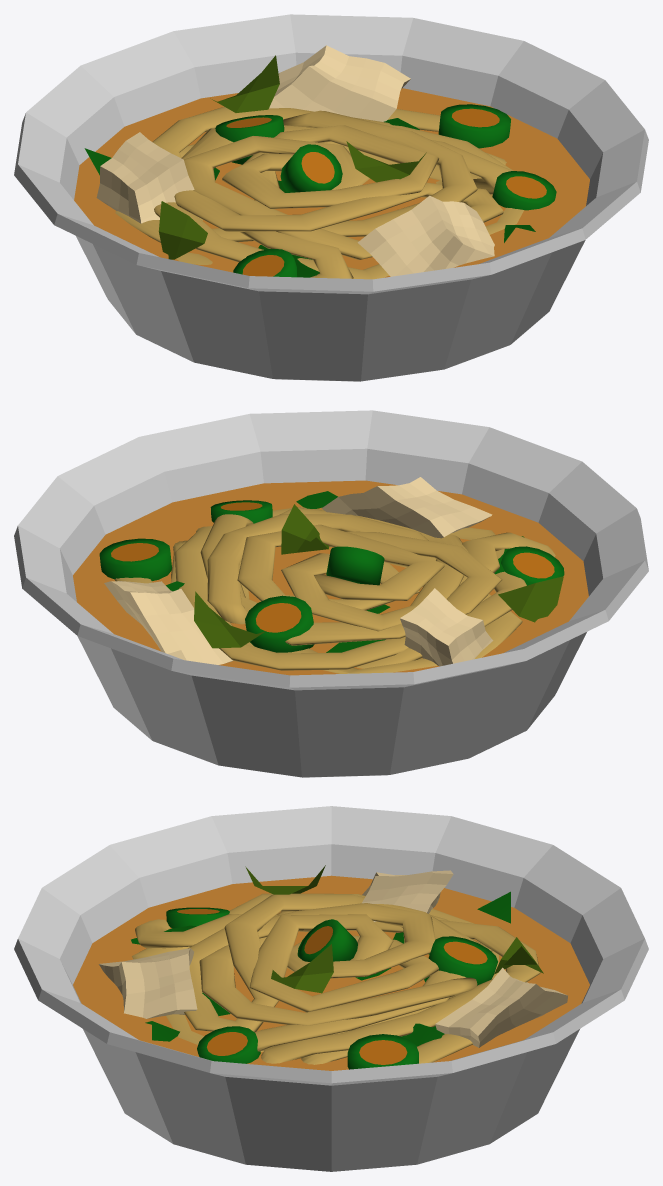
File: ChickenNoodleSoup.fbx
3 renders of one model, top to bottom at view 1: azimuth 30°, elevation 25°; view 2: azimuth 150°, elevation 25°; view 3: azimuth 270°, elevation 25°, orthographic.
Parts seen in each view (by area): view 1: Bowl, Noodles, Chicken, Broth, Carrot - Chopped, Herbs; view 2: Bowl, Noodles, Broth, Chicken, Carrot - Chopped, Herbs; view 3: Bowl, Noodles, Broth, Chicken, Carrot - Chopped, Herbs.
Boxes of the visible parts, <box> form: Bowl: <box>14,14,648,381</box>; Noodles: <box>115,107,523,279</box>; Chicken: <box>96,45,494,276</box>; Broth: <box>74,88,589,277</box>; Carrot - Chopped: <box>215,104,556,277</box>; Herbs: <box>84,55,535,277</box>; Bowl: <box>14,410,648,777</box>; Noodles: <box>114,507,555,673</box>; Broth: <box>73,480,588,675</box>; Chicken: <box>104,477,493,666</box>; Carrot - Chopped: <box>99,500,564,652</box>; Herbs: <box>166,491,563,652</box>; Bowl: <box>14,806,648,1171</box>; Noodles: <box>132,893,540,1064</box>; Broth: <box>73,875,589,1070</box>; Chicken: <box>99,870,567,1047</box>; Carrot - Chopped: <box>166,907,497,1069</box>; Herbs: <box>131,865,543,1046</box>.
Bounding box in the file's own units: 59.99 × 17.2 × 59.99.
